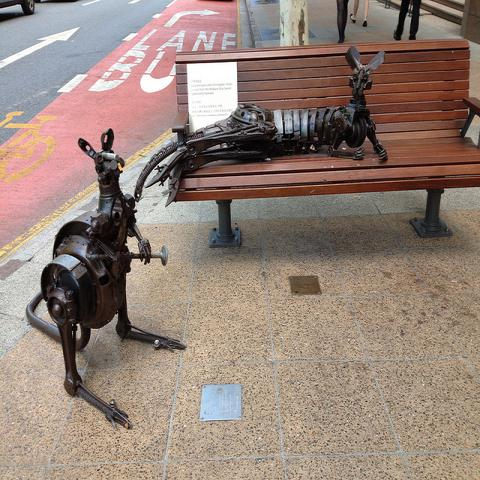car: (0, 0, 38, 17)
